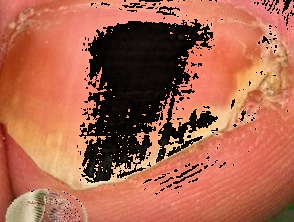Nail_psoriasis: (0, 0, 294, 204)
